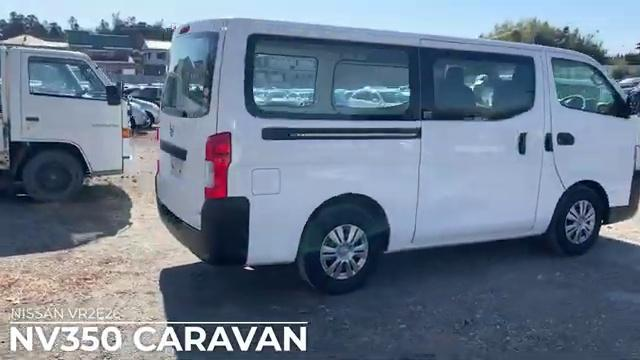van: (150, 16, 640, 291)
